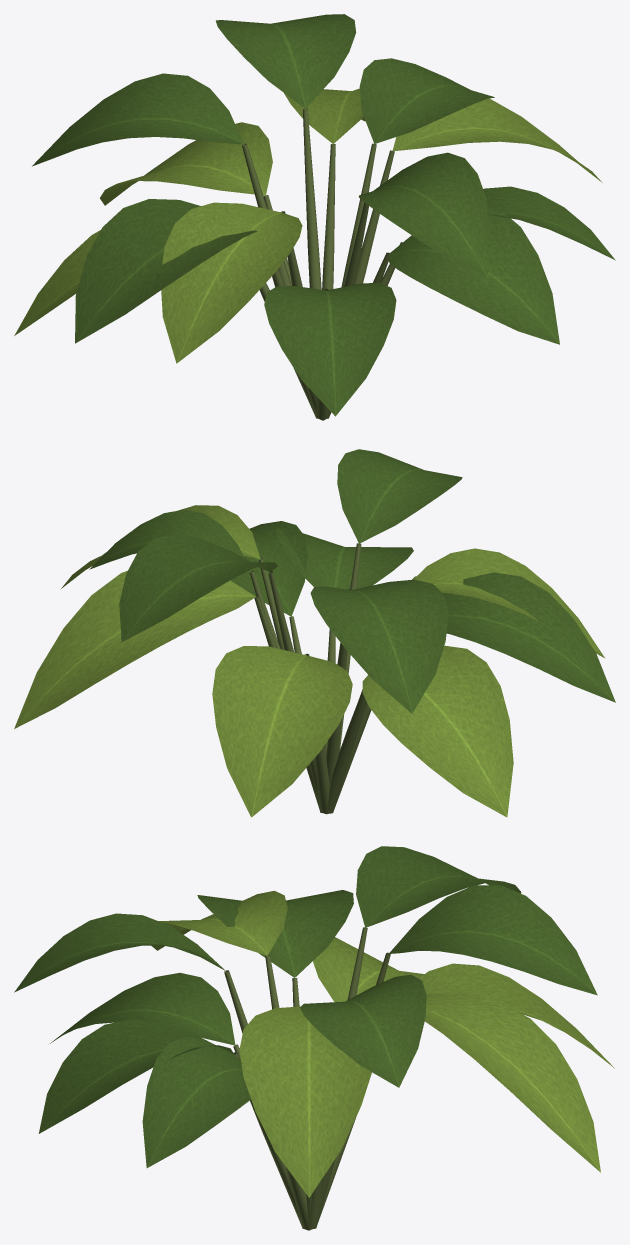
Rendered from warmBroadleaf.glb.
3 renders of one model, top to bottom at view 1: azimuth 30°, elevation 25°; view 2: azimuth 150°, elevation 25°; view 3: azimuth 270°, elevation 25°, orthographic. The views are drawn at different scales.
Parts seen in each view (by area): view 1: broadleaf-foliage, broadleaf-stems; view 2: broadleaf-foliage, broadleaf-stems; view 3: broadleaf-foliage, broadleaf-stems.
Part boxes in pixels (box(x1,y1,x2,y2)): broadleaf-foliage: box(14, 14, 615, 416); broadleaf-stems: box(242, 108, 402, 420); broadleaf-foliage: box(14, 449, 615, 817); broadleaf-stems: box(249, 543, 371, 814); broadleaf-foliage: box(14, 846, 614, 1197); broadleaf-stems: box(224, 927, 390, 1230).
Size of the model in its own units: 0.9587 by 0.5371 by 0.8703.
3 materials, 2 textured.
